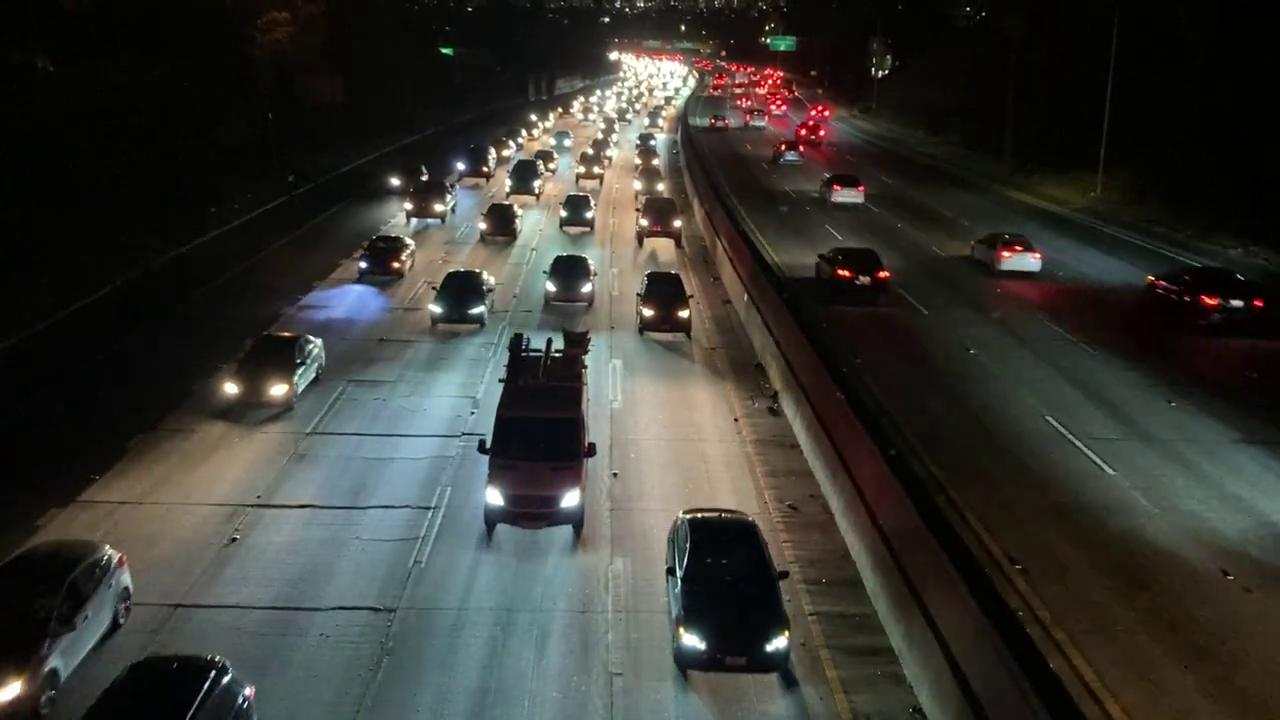car: (0, 531, 140, 708), (483, 339, 597, 543), (665, 509, 792, 673), (217, 331, 328, 408), (1144, 263, 1266, 326), (632, 270, 694, 337), (811, 246, 890, 294), (429, 271, 499, 324), (970, 235, 1048, 275), (544, 252, 601, 304), (357, 233, 421, 277), (635, 196, 683, 247), (405, 183, 462, 220), (478, 202, 527, 239), (557, 191, 598, 230), (506, 158, 546, 197), (817, 175, 865, 206)
